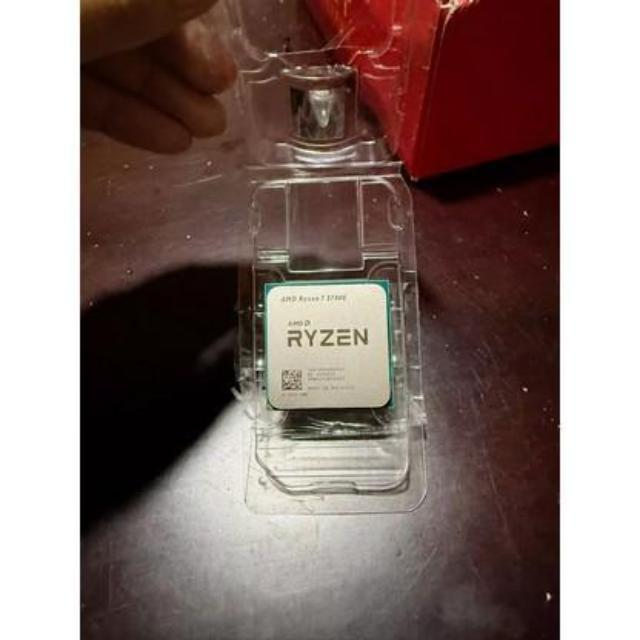CPU: (264, 284, 393, 412)
